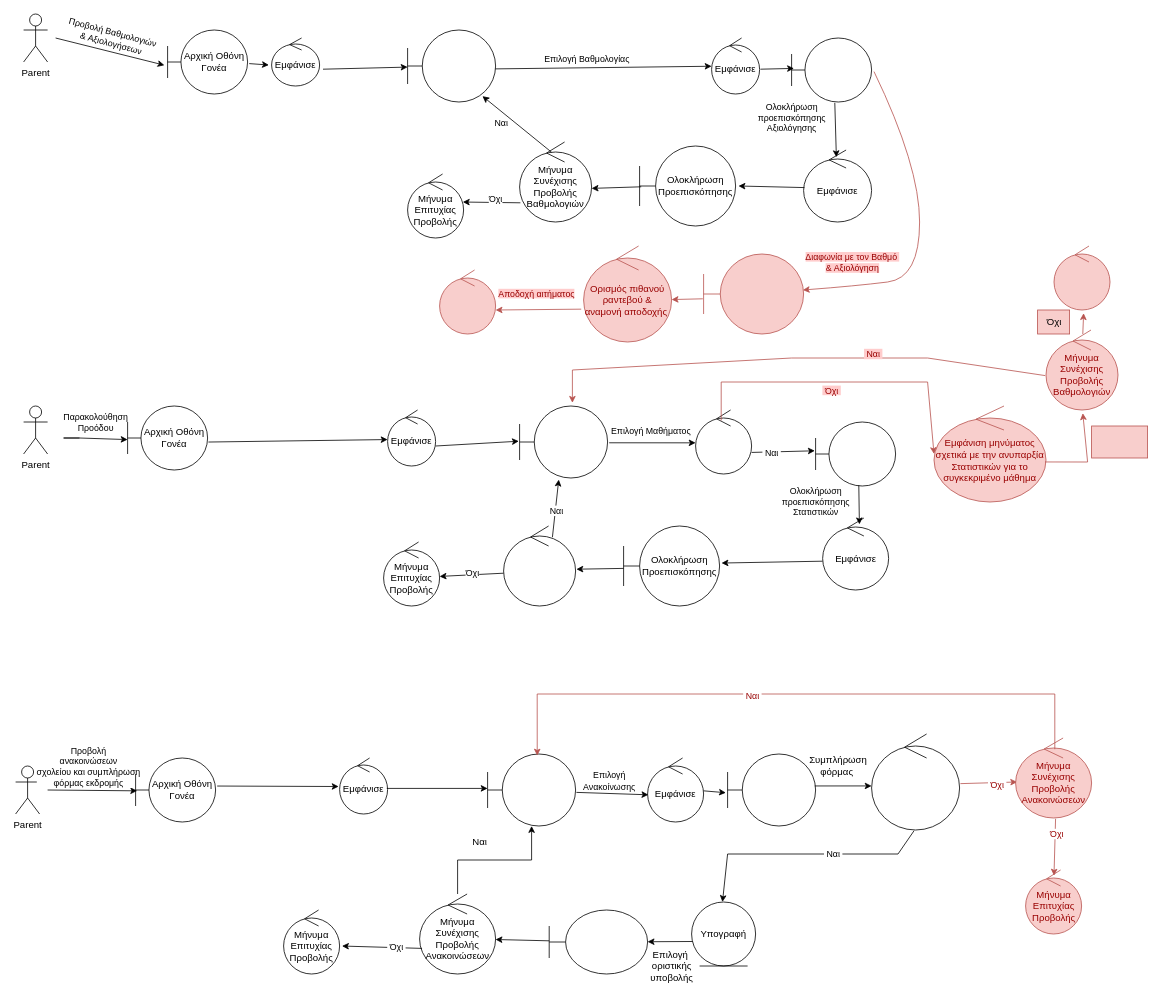
Image size: 1162x1004. Some labels were removed from this diagram. The centre of each missing label's shape, as x and y in pixels:
Ανακοίνωση Εκδρομής & Φόρμα Εκδρομής: (771,789)
Βαθμολογίες και αξιολογήσεις: (451,65)
Γραπτό Μαθητή & διορθώσεις Καθηγητή: (831,69)
Δήλωση επιθυμίας για επικοινωνία: (753,293)
Ειδοποίηση αποδοχής Αιτήματος: (467,301)
Επιθυμεί να συμμετέχει ο Μαθητής στην Εκδρομή ?: (915,781)
Επιλέγει οκ: (1119,441)
Λίστα Ανακοινώσεων: (531,789)
Λίστα με Μαθήματα που παρακολουθεί ο Μαθητής: (563,441)
Μήνυμα Ανεπιτυχούς Προβολής: (1081,277)
Μήνυμα Συνέχισης Προβολής Προόδου: (539,565)
Προεπισκόπηση οριστικής υποβολής: (598,941)
Στατιστικά Μαθήματος: (855,453)
Υπάρχουν Στατιστικά ?: (723,441)
